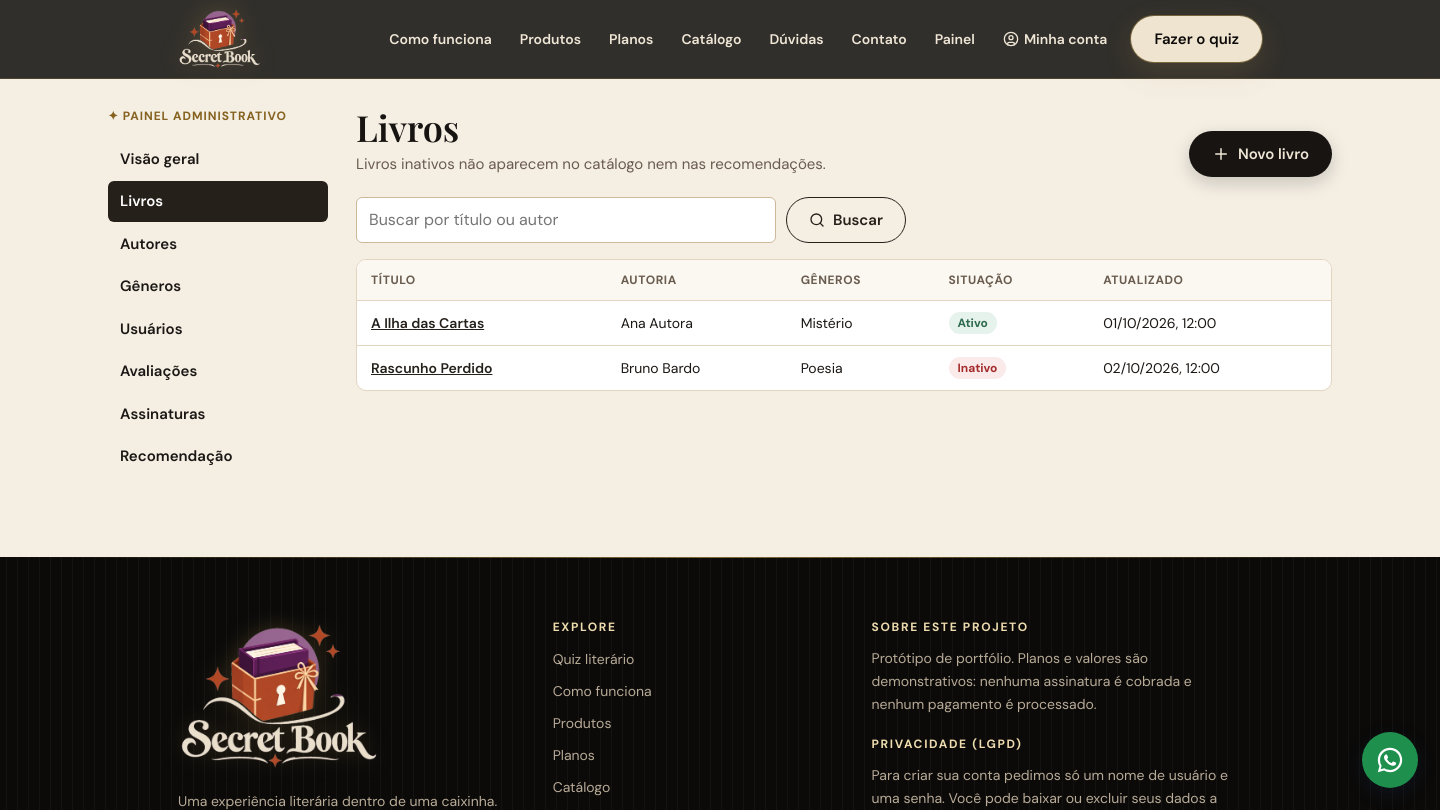
Scenario: Painel: livros › lista os livros com situação e busca por título
Expected: the text "Ativo" is shown, [948,312,997,334]
Type "rascunho" into the search field labelled "Buscar por título ou autor".
click(566, 220); type("rascunho")  # box [356,197,776,243]
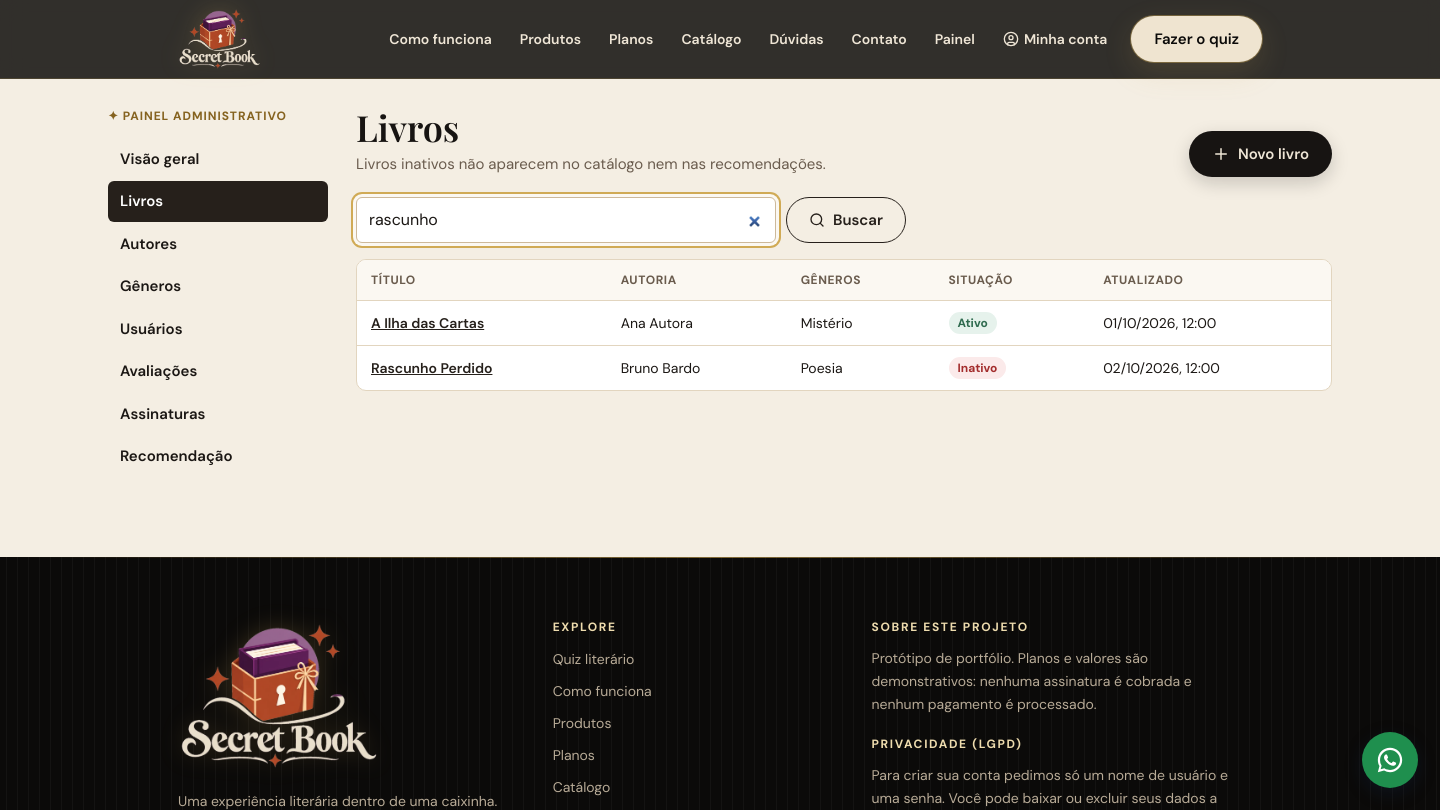
Click the button "Buscar".
click(846, 220)  # box [786,197,906,243]
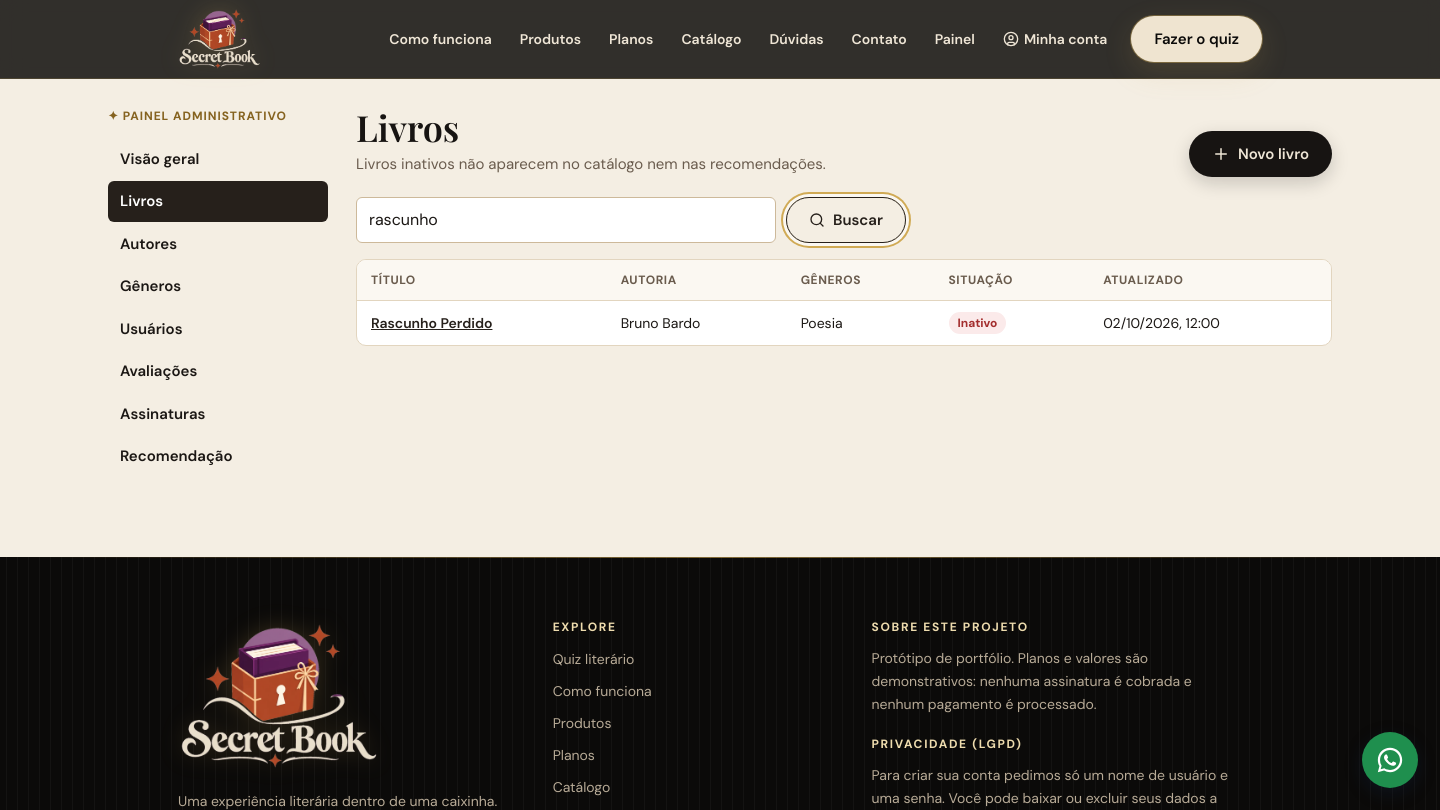
Expected: the text "Inativo" is shown, [948,312,1006,334]
Now the link "A Ilha das Cartas" is gone
